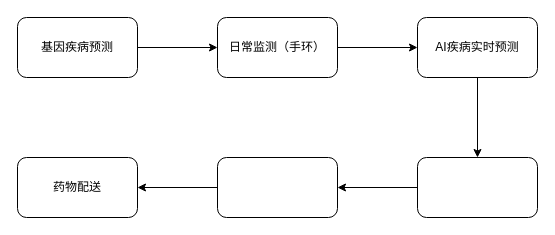
The diagram is 555 pixels wide and 235 high, and some of its shapes have lost their labels. The shapes that lost their labels are listed below. From the top down, each one's centre as x and y in pixels, then its label:
At pixel 277 187: "AI药物定制".
At pixel 477 187: "私人AI诊疗".
